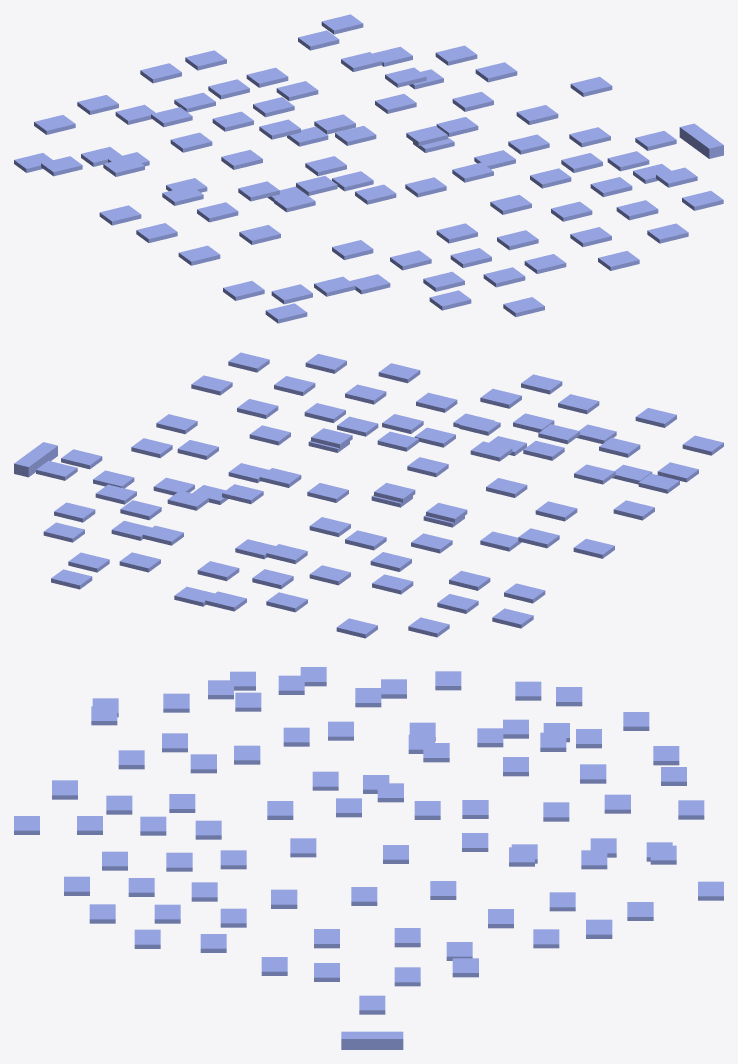
Rendered from obstacles.fbx.
3 renders of one model, top to bottom at view 1: azimuth 30°, elevation 25°; view 2: azimuth 150°, elevation 25°; view 3: azimuth 270°, elevation 25°, orthographic. The views are drawn at different scales.
Visible parts, largest first — view 1: Cube, Cube.058, Cube.039, Cube.045, Cube.047, Cube.057, Cube.076, Cube.086, Cube.002, Cube.004, Cube.008, Cube.013 (+67 smaller); view 2: Cube, Cube.023, Cube.028, Cube.032, Cube.009, Cube.016, Cube.022, Cube.049, Cube.061, Cube.065, Cube.067, Cube.008 (+69 smaller); view 3: Cube.
Part boxes in pixels (left/top/right/bottom): Cube: left=679, top=123, right=723, bottom=158; Cube.058: left=429, top=290, right=471, bottom=310; Cube.039: left=475, top=62, right=517, bottom=82; Cube.045: left=321, top=14, right=363, bottom=34; Cube.047: left=246, top=67, right=288, bottom=87; Cube.057: left=483, top=267, right=525, bottom=287; Cube.076: left=99, top=205, right=141, bottom=225; Cube.086: left=265, top=303, right=307, bottom=323; Cube.002: left=607, top=151, right=649, bottom=171; Cube.004: left=570, top=76, right=612, bottom=96; Cube.008: left=516, top=105, right=558, bottom=124; Cube.013: left=590, top=177, right=632, bottom=197; Cube: left=14, top=442, right=57, bottom=477; Cube.023: left=470, top=441, right=512, bottom=461; Cube.028: left=535, top=501, right=577, bottom=521; Cube.032: left=197, top=561, right=239, bottom=581; Cube.009: left=120, top=500, right=161, bottom=520; Cube.016: left=259, top=468, right=301, bottom=487; Cube.022: left=459, top=415, right=500, bottom=435; Cube.049: left=309, top=565, right=350, bottom=585; Cube.061: left=378, top=363, right=420, bottom=383; Cube.065: left=372, top=574, right=413, bottom=594; Cube.067: left=408, top=617, right=449, bottom=637; Cube.008: left=95, top=484, right=136, bottom=504; Cube: left=341, top=1031, right=403, bottom=1049.
Size of the model in its own units: 8076 by 1339 by 7978.
